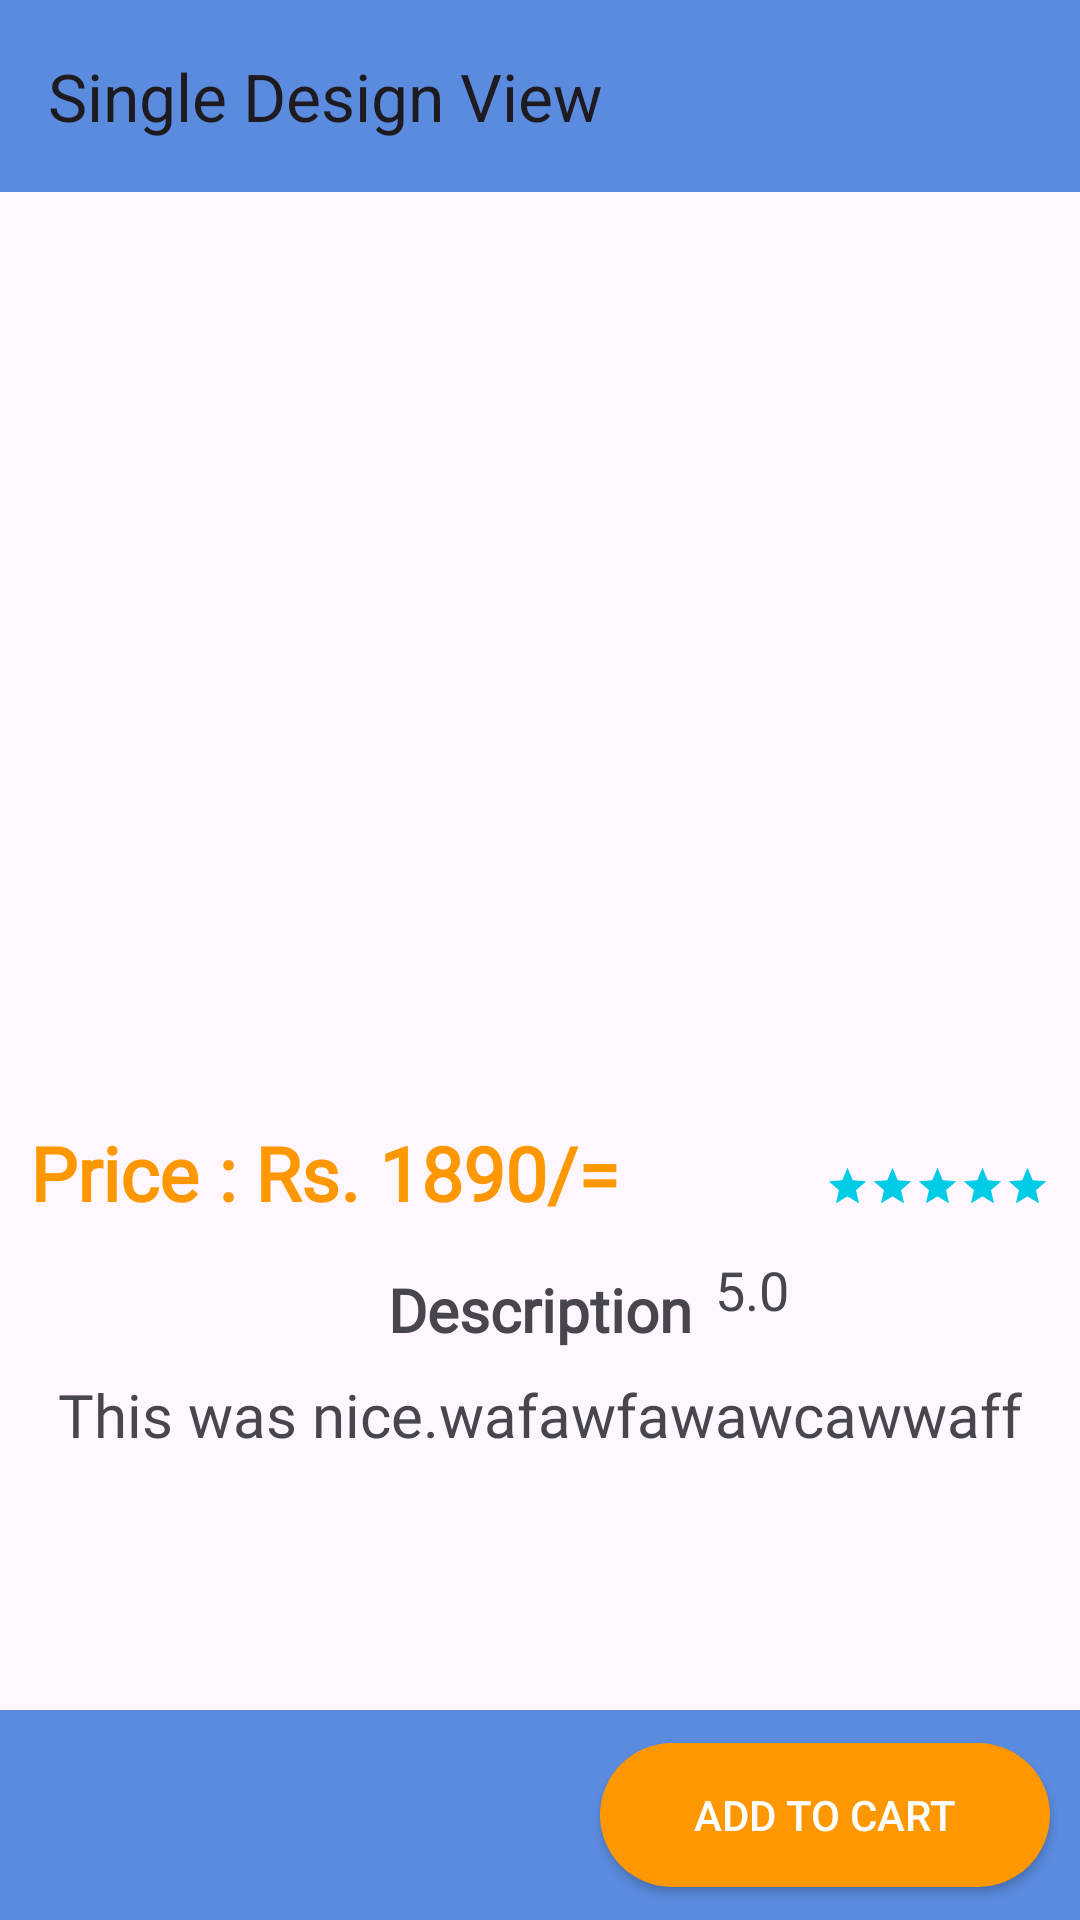

Screen size 1080x1920. Icon name, then its box in pixels as Rect(x1, y1, x2, y2):
rating star: Rect(829, 1168, 866, 1203), Rect(874, 1168, 911, 1203), Rect(919, 1168, 956, 1203), Rect(964, 1168, 1001, 1203), Rect(1009, 1168, 1046, 1203)
